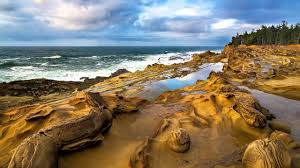sea: (3, 45, 299, 163), (1, 45, 230, 93)
sky: (1, 1, 294, 46)
